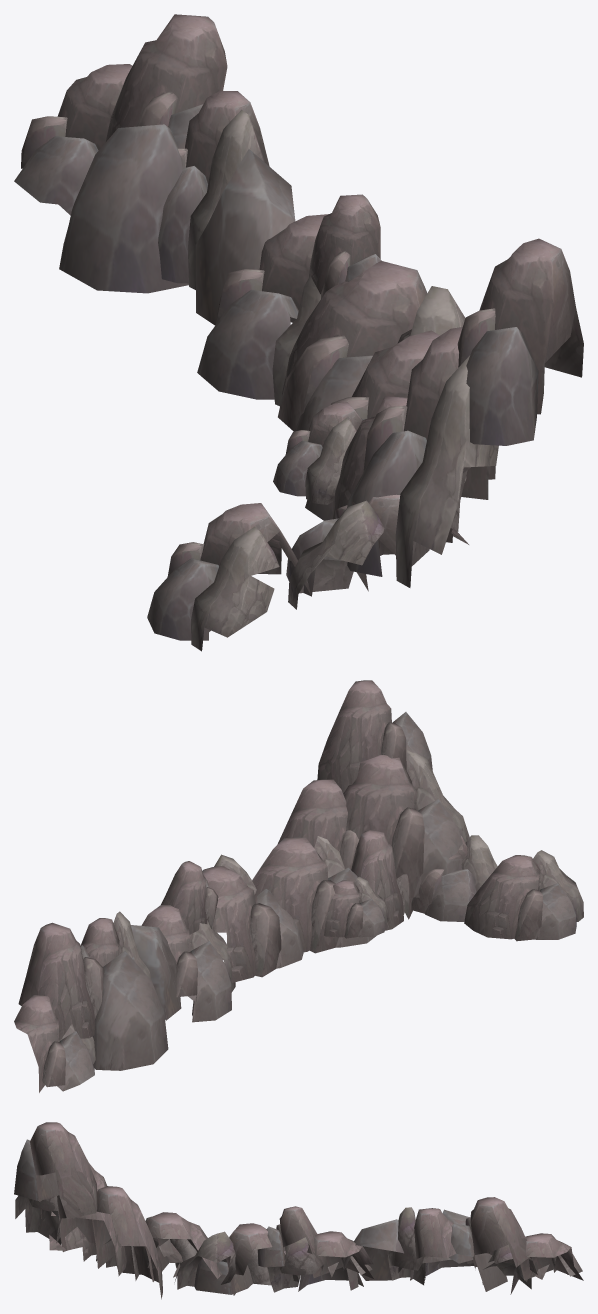
The model's file is area_05_7.FBX.
3 renders of one model, top to bottom at view 1: azimuth 30°, elevation 25°; view 2: azimuth 150°, elevation 25°; view 3: azimuth 270°, elevation 25°, orthographic. The views are drawn at different scales.
Visible parts, largest first — view 1: area_05_7; view 2: area_05_7; view 3: area_05_7.
Boxes of the visible parts, x1=… form: area_05_7: x1=14, y1=14, x2=583, y2=651; area_05_7: x1=14, y1=680, x2=583, y2=1092; area_05_7: x1=14, y1=1122, x2=583, y2=1299.
Size of the model in its own units: 59.15 by 38.67 by 118.
